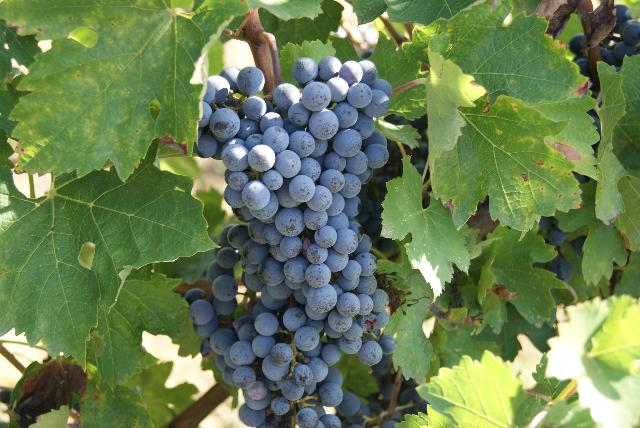grapes: (199, 59, 396, 366)
